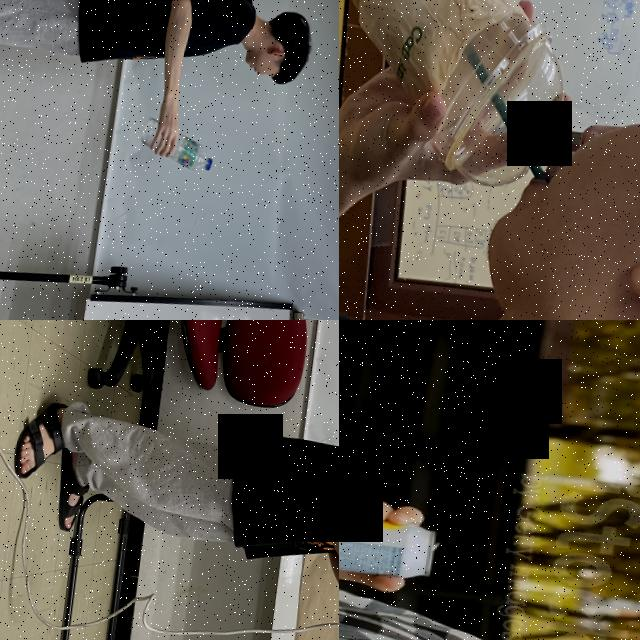bottle: (132, 118, 215, 175)
can: (339, 501, 439, 581)
cup: (339, 0, 589, 197)
